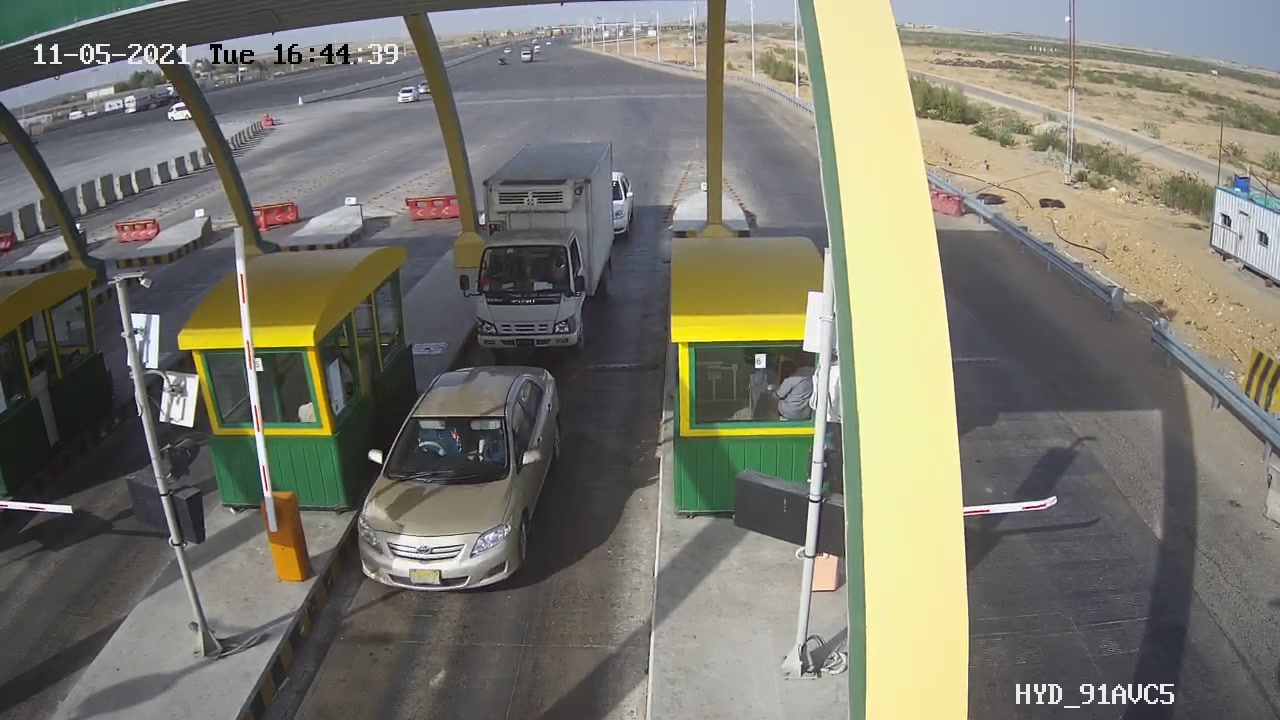F1: (343, 343, 568, 608)
F5: (461, 119, 629, 370)
